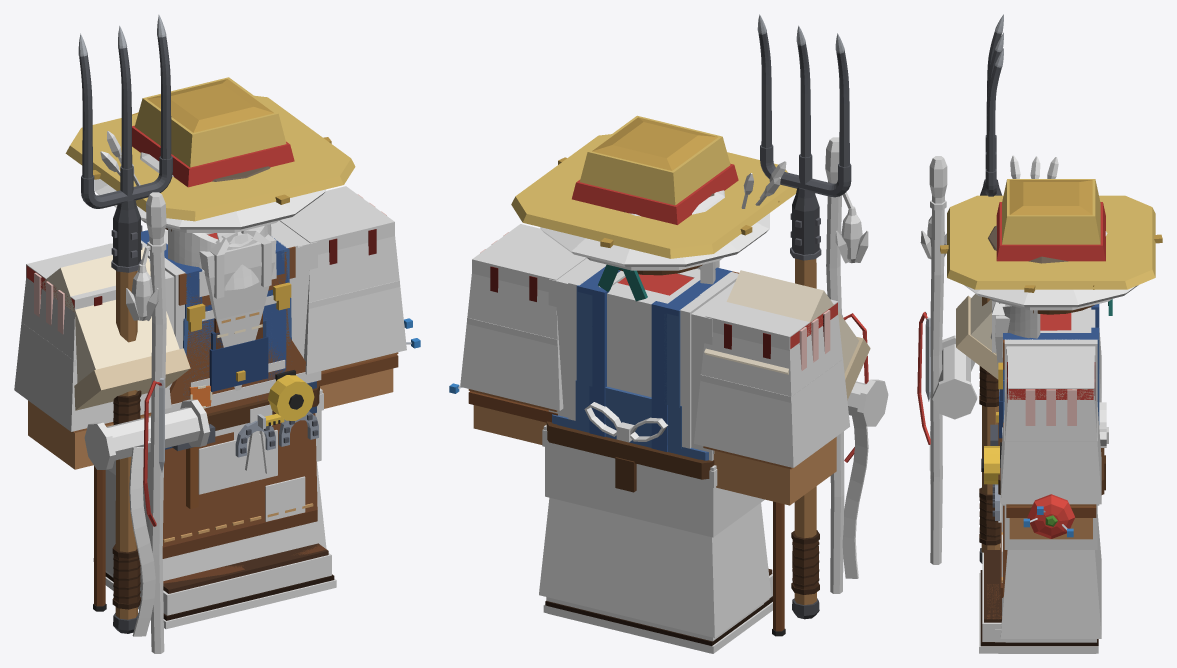
File: w1_keepers.fbx
3 views of the same model, side by side, from view 1: azimuth 30°, elevation 25°; view 2: azimuth 150°, elevation 25°; view 3: azimuth 270°, elevation 25° (orthographic). The views are drawn at different scales.
Visible parts, largest first — view 1: FarmerGear.Hat, FarrierGear.Apron, SenseiHarvestGear.SleeveL, SenseiHarvestGear.SleeveR, TailorGear.SleeveR, FarmerGear.ForkTines, SenseiHarvestGear.Staff, SenseiHarvestGear.Beard, SenseiHarvestGear.Trousers, WrapperGear.RibbonRoll, WrapperGear.SleeveL, WrapperGear.ApronTrim (+37 smaller); view 2: SenseiHarvestGear.Trousers, FarmerGear.Hat, SenseiHarvestGear.SleeveR, SenseiHarvestGear.SleeveL, SenseiHarvestGear.Skirt, FishermanGear.Vest, TailorGear.Overalls, FarmerGear.ForkTines, FarmerGear.Overalls, WrapperGear.SleeveL, TailorGear.SleeveR, FarrierGear.GloveR (+27 smaller); view 3: FarmerGear.Hat, SenseiHarvestGear.SleeveL, SenseiHarvestGear.Trousers, SenseiHarvestGear.Staff, WrapperGear.SleeveL, FarmerGear.HatDetail, FarmerGear.HatBand, FarmerGear.ForkTines, WrapperGear.Spool, SenseiHarvestGear.Hat, TailorGear.CuffR, TailorGear.Pincushion (+27 smaller).
Boxes of the visible parts, x1,y1,x2,y2 form: FarmerGear.Hat: (65,77,355,221); FarrierGear.Apron: (163,246,317,545); SenseiHarvestGear.SleeveL: (304,236,406,374); SenseiHarvestGear.SleeveR: (14,277,171,431); TailorGear.SleeveR: (41,247,179,382); FarmerGear.ForkTines: (79,36,172,208); SenseiHarvestGear.Staff: (146,192,166,653); SenseiHarvestGear.Beard: (199,228,276,390); SenseiHarvestGear.Trousers: (93,462,326,595); WrapperGear.RibbonRoll: (106,407,200,636); WrapperGear.SleeveL: (279,186,399,308); WrapperGear.ApronTrim: (151,235,321,494); SenseiHarvestGear.Trousers: (539,497,771,637); FarmerGear.Hat: (511,115,796,258); SenseiHarvestGear.SleeveR: (694,314,849,467); SenseiHarvestGear.SleeveL: (460,273,563,410); SenseiHarvestGear.Skirt: (545,447,764,537); FishermanGear.Vest: (548,258,734,460); TailorGear.Overalls: (552,285,708,460); FarmerGear.ForkTines: (758,32,851,197); FarmerGear.Overalls: (577,266,732,451); WrapperGear.SleeveL: (467,224,586,345); TailorGear.SleeveR: (704,270,858,374); FarrierGear.GloveR: (713,437,836,505); FarmerGear.Hat: (947,179,1155,289); SenseiHarvestGear.SleeveL: (1000,376,1101,504); SenseiHarvestGear.Trousers: (1000,514,1101,638); SenseiHarvestGear.Staff: (929,156,947,564); WrapperGear.SleeveL: (1004,351,1097,444); FarmerGear.HatDetail: (940,180,1162,292); FarmerGear.HatBand: (996,202,1105,261); FarmerGear.ForkTines: (985,31,1001,196); WrapperGear.Spool: (932,335,977,419); SenseiHarvestGear.Hat: (964,285,1138,307); TailorGear.CuffR: (956,295,998,379); TailorGear.Pincushion: (1027,494,1075,538).
Size of the model in its own units: 4.62 by 7.37 by 3.06.
